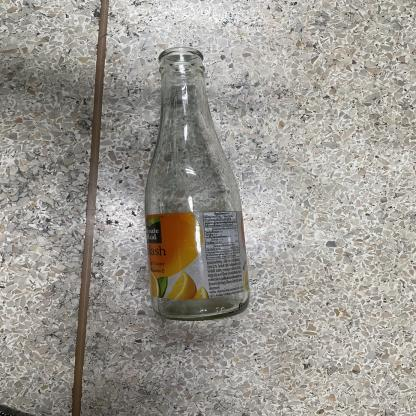Can: (120, 36, 270, 330)
